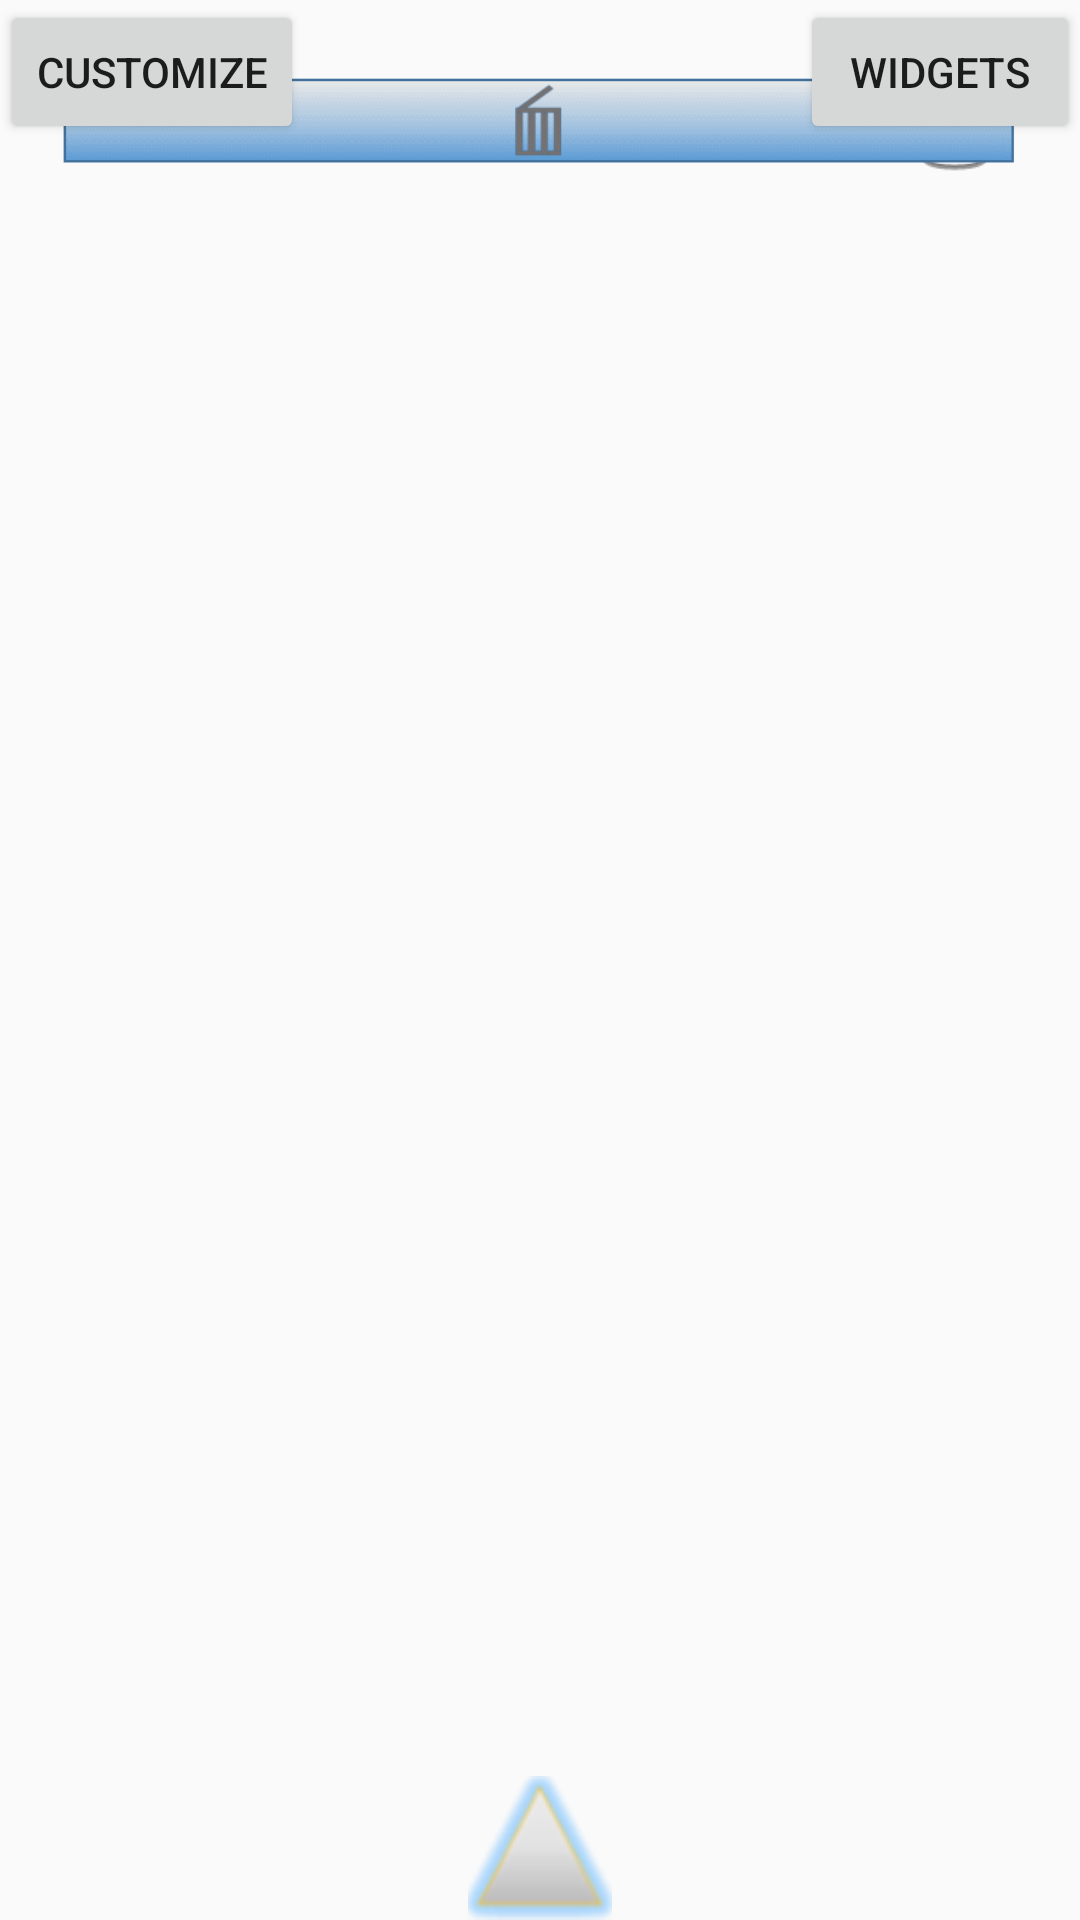

Where to tap for icons on this 1080 × 1920 app screen, as point (x, y):
arrow: point (540, 1848)
